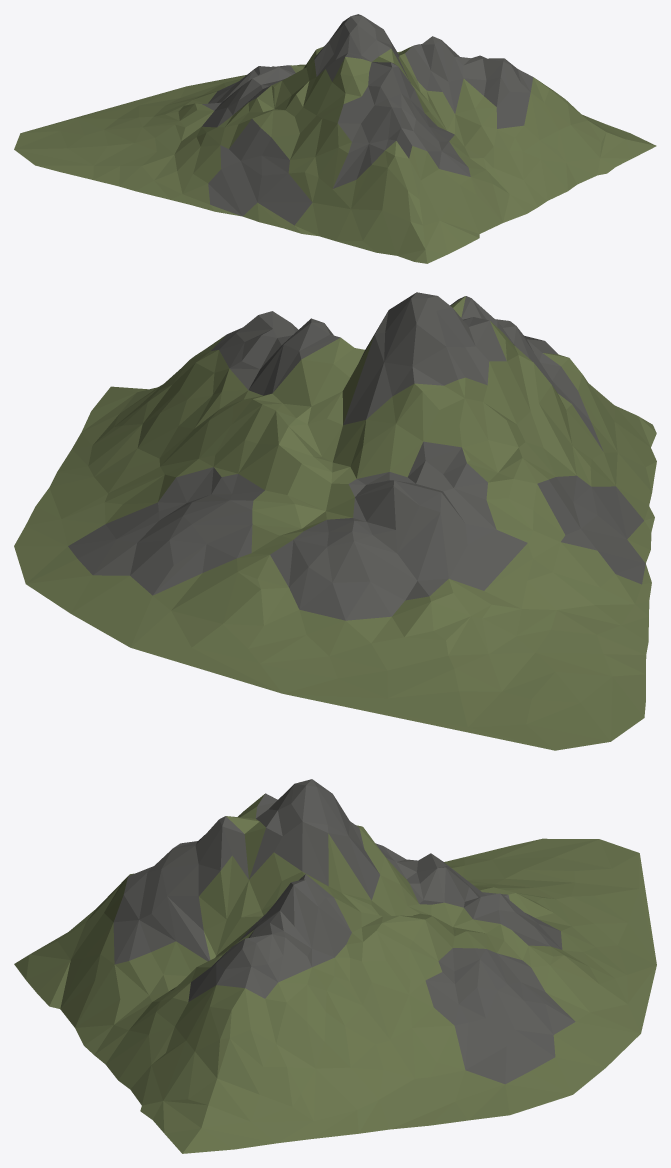
Rendered from SM_Envr_Nature_Mountain_09.fbx.
The picture shows the model from 3 angles, top to bottom: view 1: azimuth 30°, elevation 25°; view 2: azimuth 150°, elevation 25°; view 3: azimuth 270°, elevation 25°; orthographic projection. The views are drawn at different scales.
Parts seen in each view (by area): view 1: SM_Envr_Nature_Mountain_09; view 2: SM_Envr_Nature_Mountain_09; view 3: SM_Envr_Nature_Mountain_09.
Boxes of the visible parts, bbox=[...] form: SM_Envr_Nature_Mountain_09: bbox=[14, 14, 656, 263]; SM_Envr_Nature_Mountain_09: bbox=[14, 292, 656, 750]; SM_Envr_Nature_Mountain_09: bbox=[14, 779, 656, 1153].
Size of the model in its own units: 40643 by 12517 by 35046.
